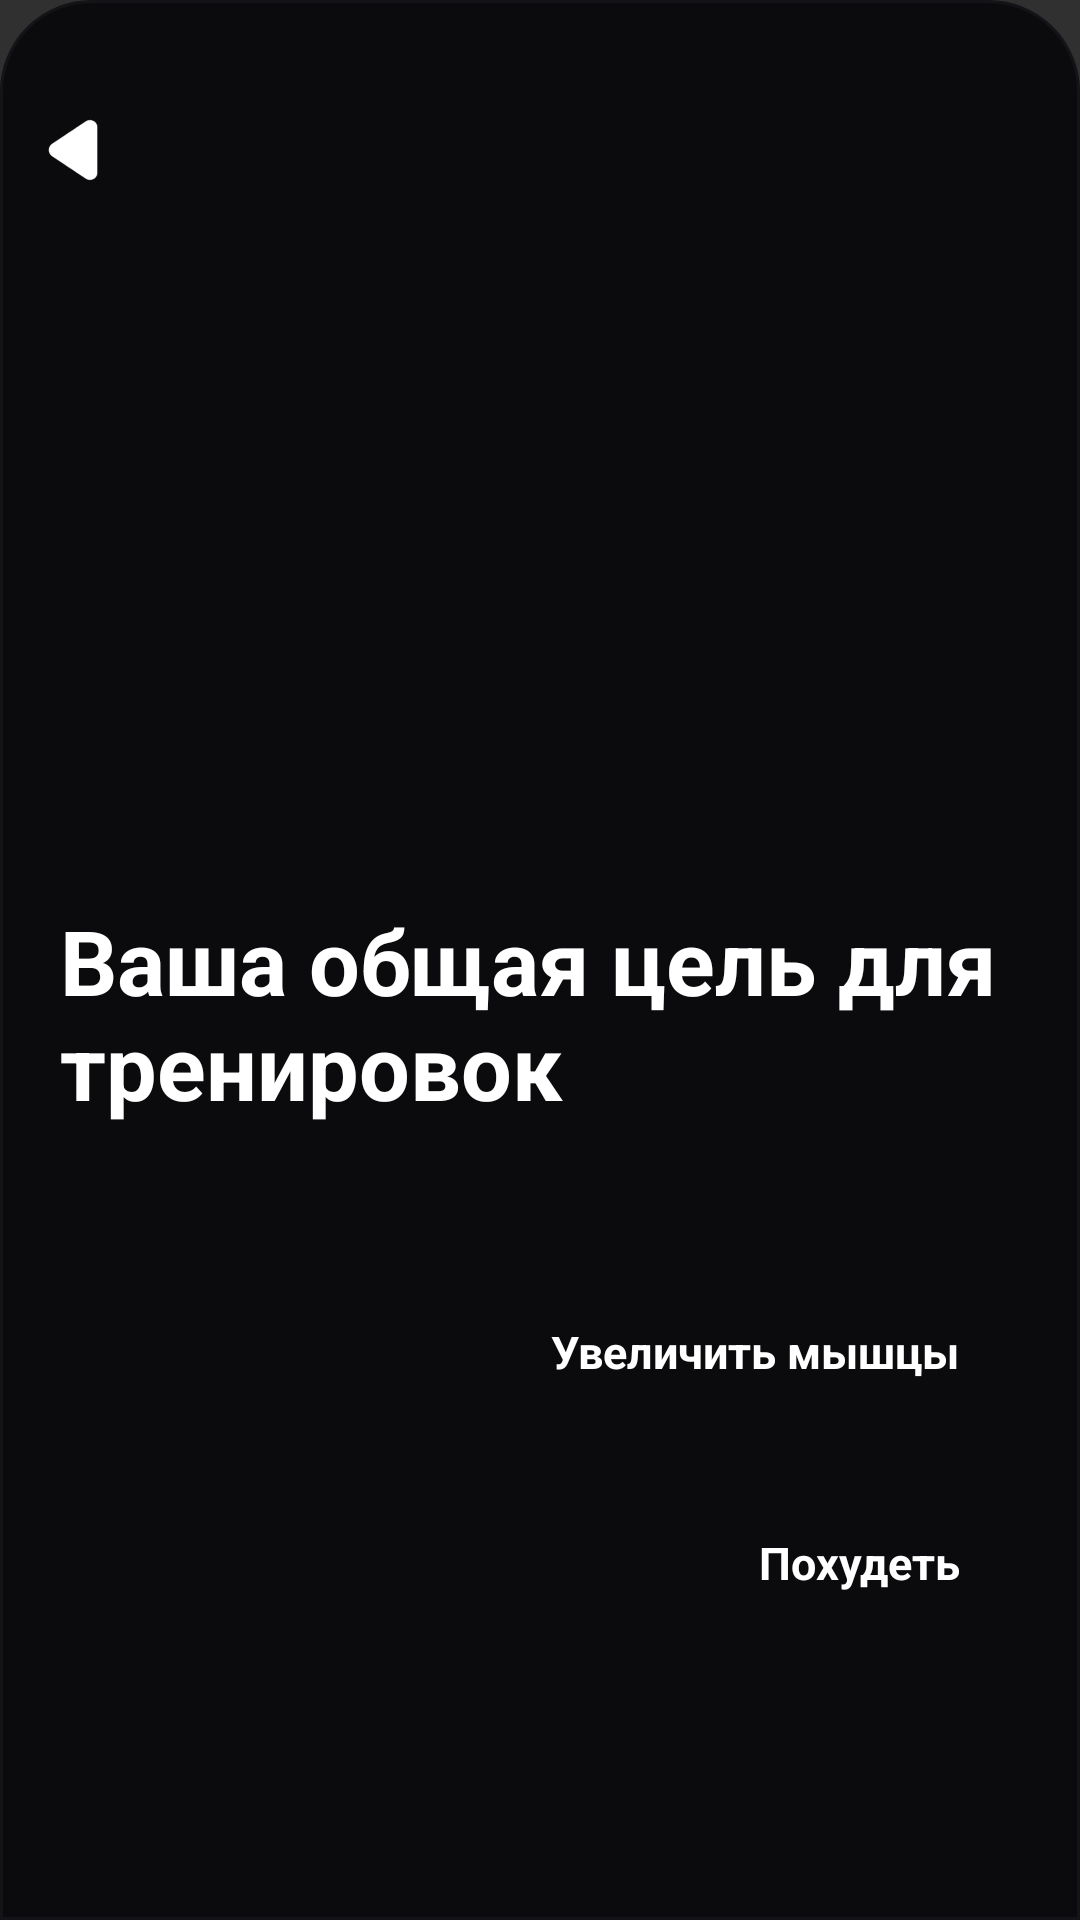

Icons on this 1080×1920 Android screen, each with the point to tap as point (x, y):
back: point (73, 150)
